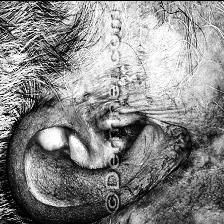Unclassified: (140, 119, 224, 224), (126, 20, 224, 98), (62, 0, 109, 97)
